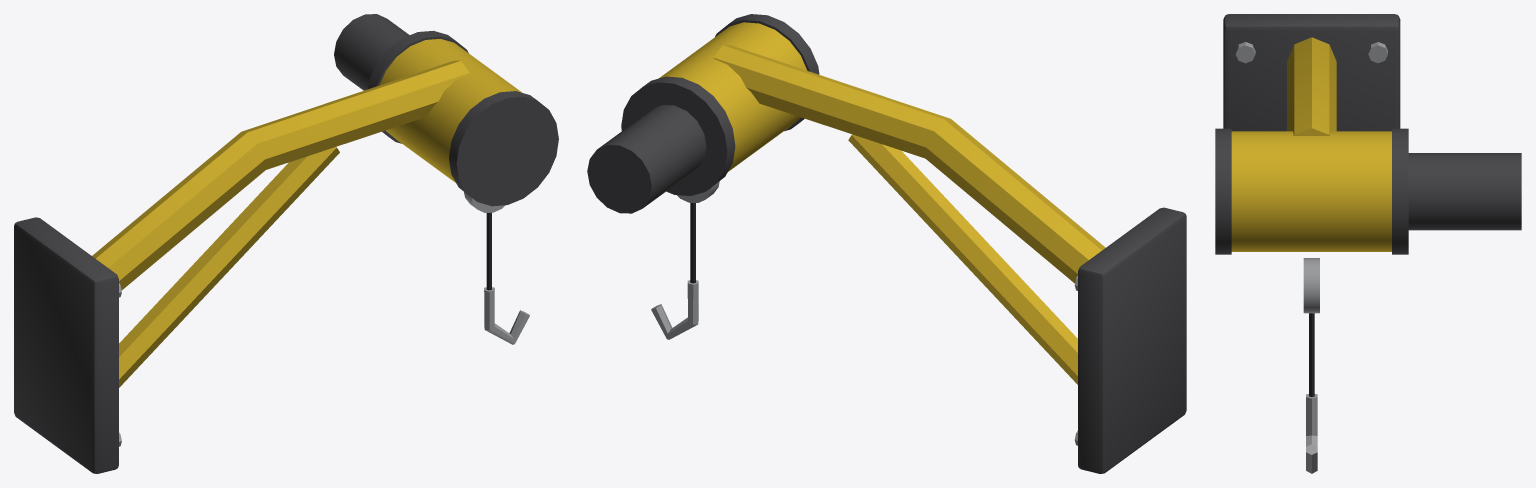
Rendered from winch.glb.
3 renders of one model, left to right at view 1: azimuth 30°, elevation 25°; view 2: azimuth 150°, elevation 25°; view 3: azimuth 270°, elevation 25°, orthographic. The views are drawn at different scales.
Visible parts, largest first — view 1: winch; view 2: winch; view 3: winch.
Boxes of the visible parts, x1=… form: winch: x1=14, y1=14, x2=558, y2=473; winch: x1=587, y1=14, x2=1186, y2=473; winch: x1=1215, y1=14, x2=1521, y2=473.
Bounding box in the file's own units: 1.07 × 0.6366 × 0.555.
